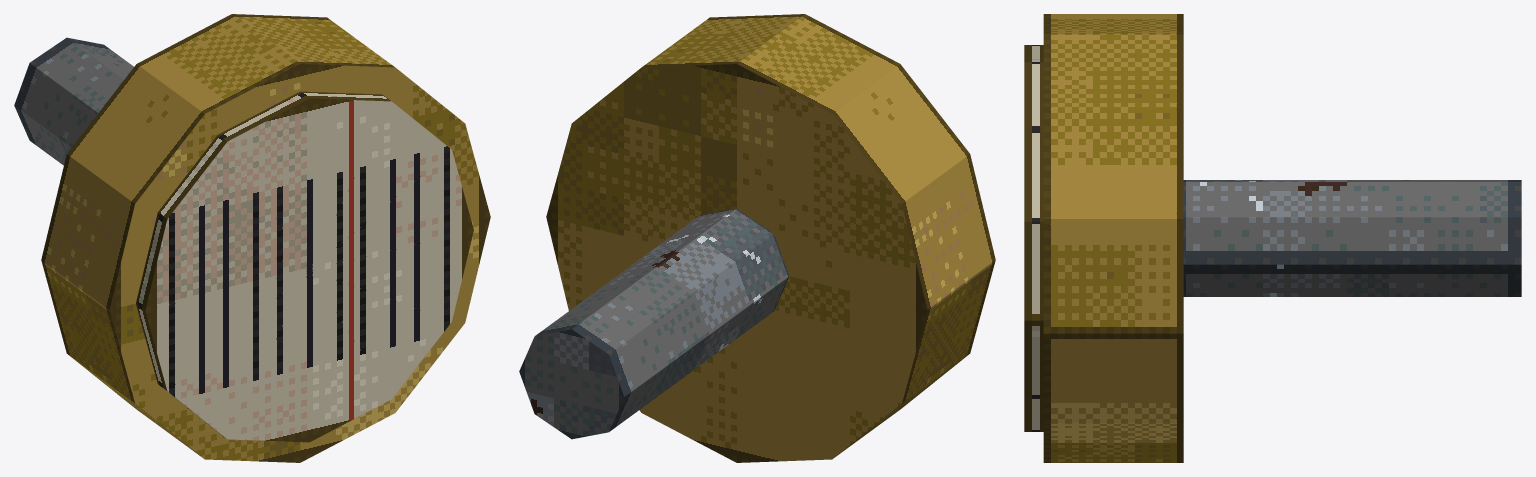
The model's file is SM_Gauge_Wall_01.glb.
3 views of the same model, side by side, from view 1: azimuth 30°, elevation 25°; view 2: azimuth 150°, elevation 25°; view 3: azimuth 270°, elevation 25° (orthographic). The views are drawn at different scales.
Parts seen in each view (by area): view 1: SM_Gauge_Wall_01; view 2: SM_Gauge_Wall_01; view 3: SM_Gauge_Wall_01.
Boxes of the visible parts, x1=… form: SM_Gauge_Wall_01: x1=14, y1=14, x2=490, y2=462; SM_Gauge_Wall_01: x1=519, y1=14, x2=995, y2=462; SM_Gauge_Wall_01: x1=1024, y1=14, x2=1521, y2=462.
Size of the model in its own units: 0.116 by 0.116 by 0.128.
1 material, 1 textured.
